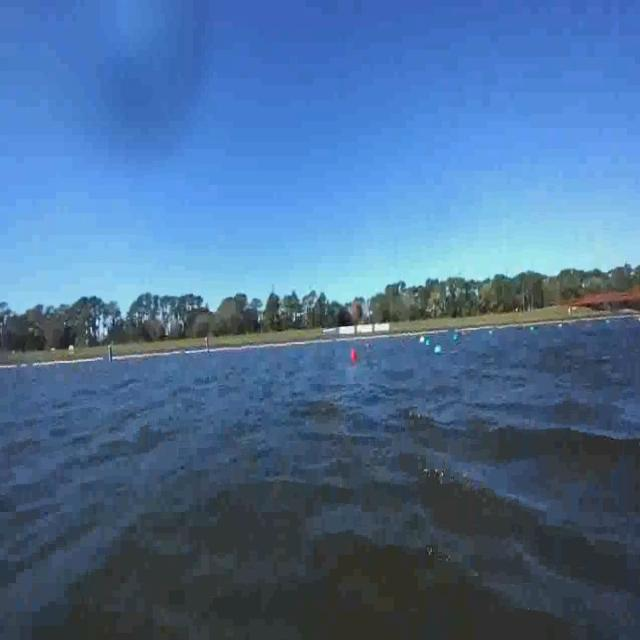green-buoy: (434, 346, 441, 356)
red-buoy: (352, 348, 358, 362)
